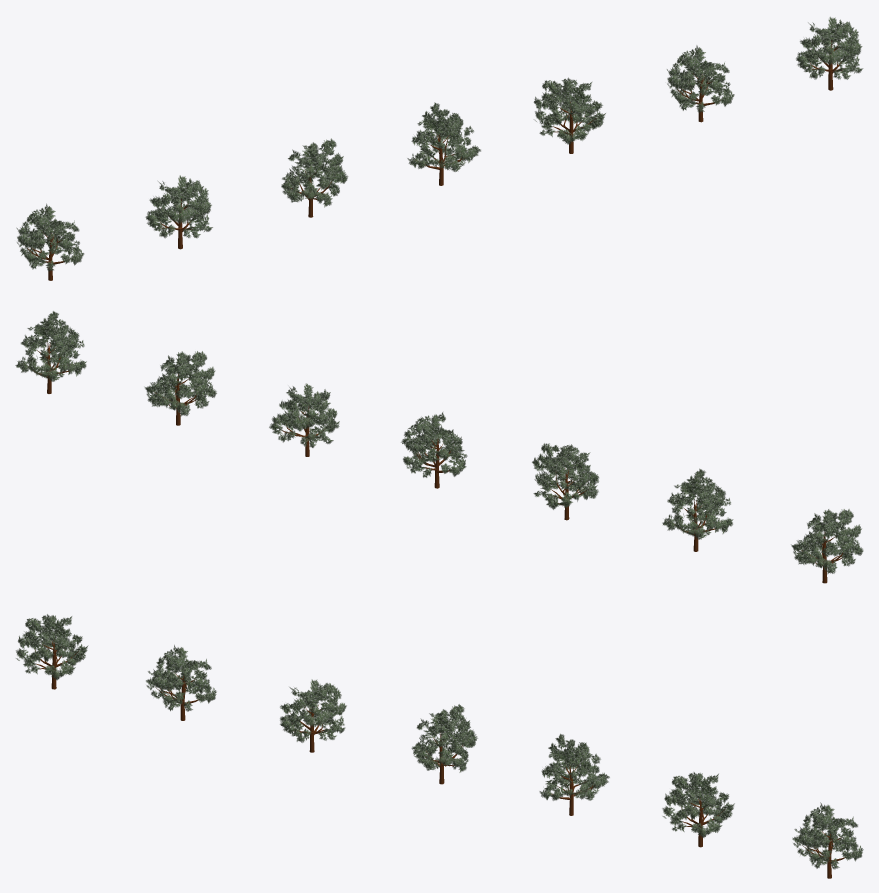
File: treelineEW2.glb
3 views of the same model, one above another, from view 1: azimuth 30°, elevation 25°; view 2: azimuth 150°, elevation 25°; view 3: azimuth 330°, elevation 25° (orthographic).
Parts seen in each view (by area): view 1: tree; view 2: tree; view 3: tree.
Boxes of the visible parts, bbox=[...] form: tree: bbox=[16, 16, 863, 280]; tree: bbox=[15, 311, 863, 583]; tree: bbox=[16, 614, 863, 878].
Bounding box in the file's own units: 162 × 13.85 × 13.43.
Materials: 2 (1 with a texture image).
